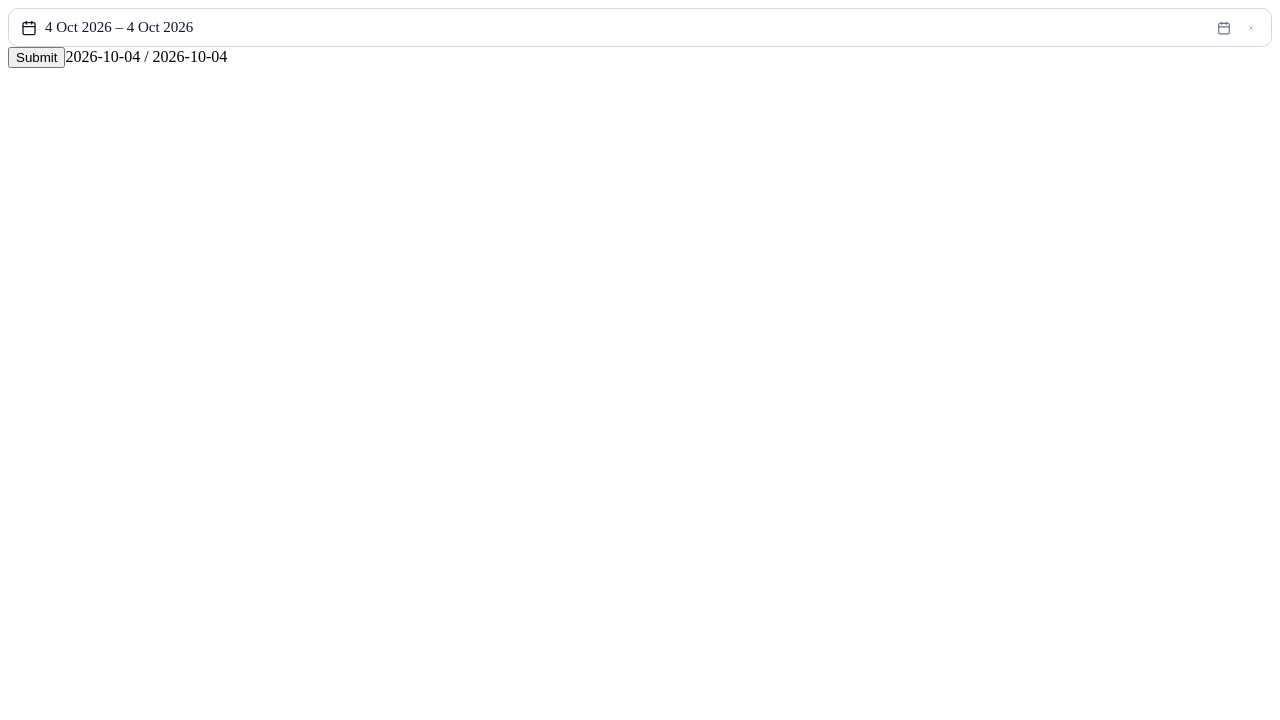
starting a range earlier than its first day replaces the start before extending
Click the button with aria-label "Dates": (119, 27) [8,8,1272,47]
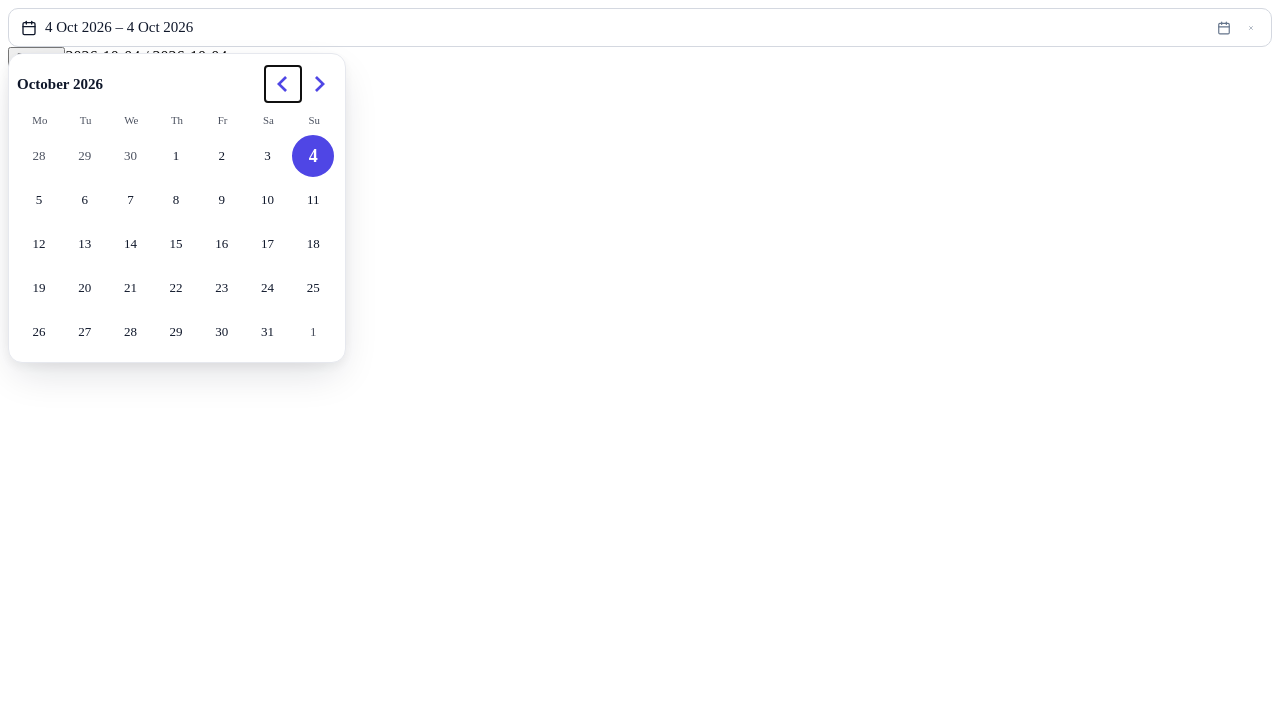
Click the button named "next month": (319, 84) [301,66,337,102]
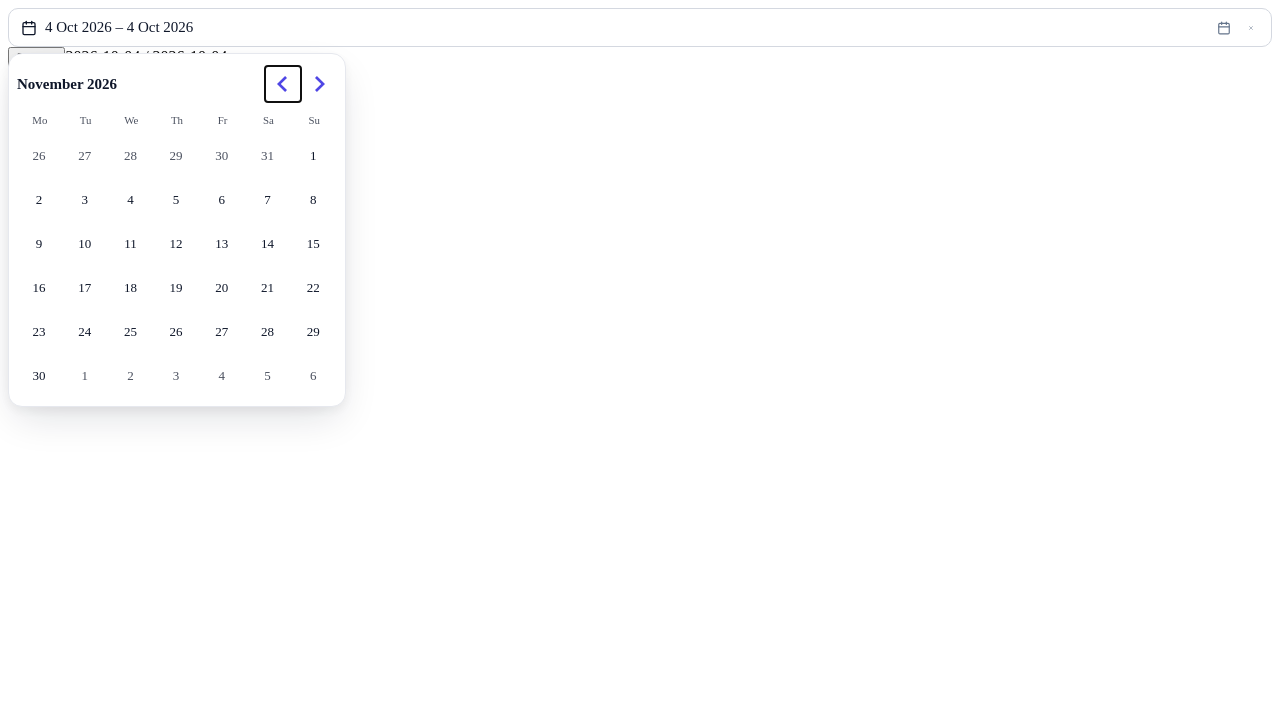
Click the button named "November 28th, 2026": (268, 332) [246,311,288,353]
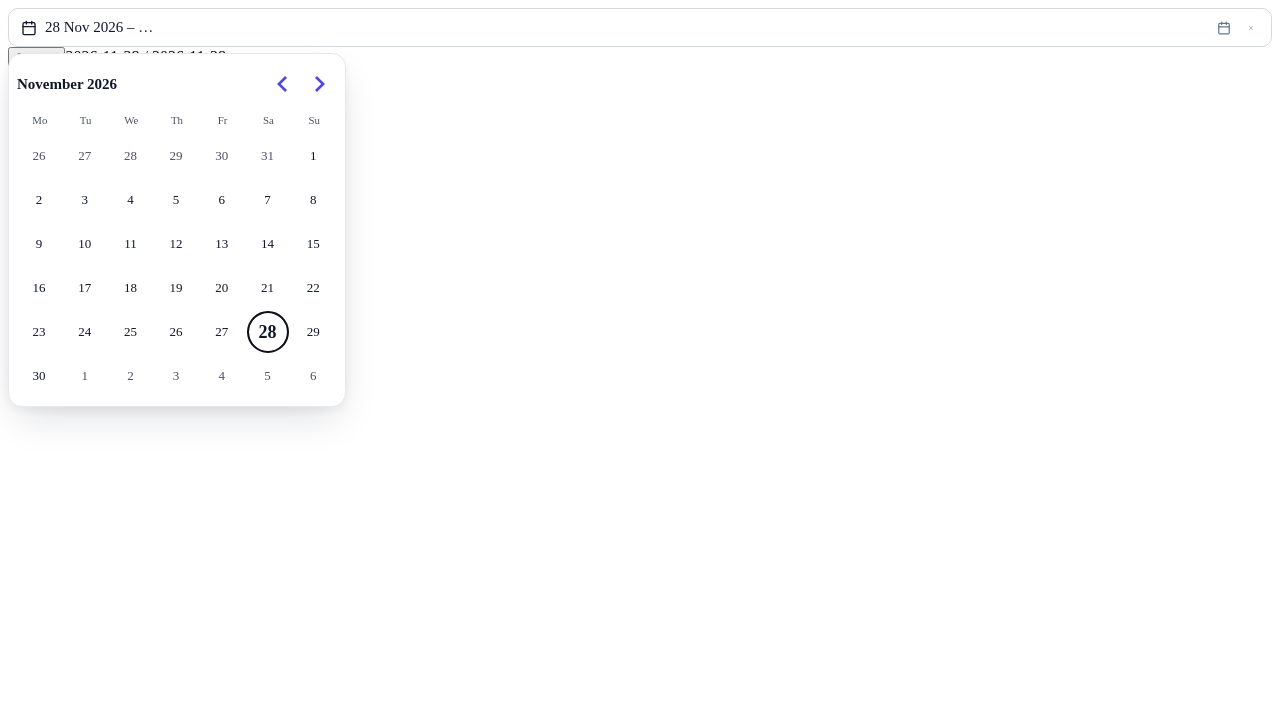
Click the button named "November 27th, 2026": (222, 332) [201,311,243,353]
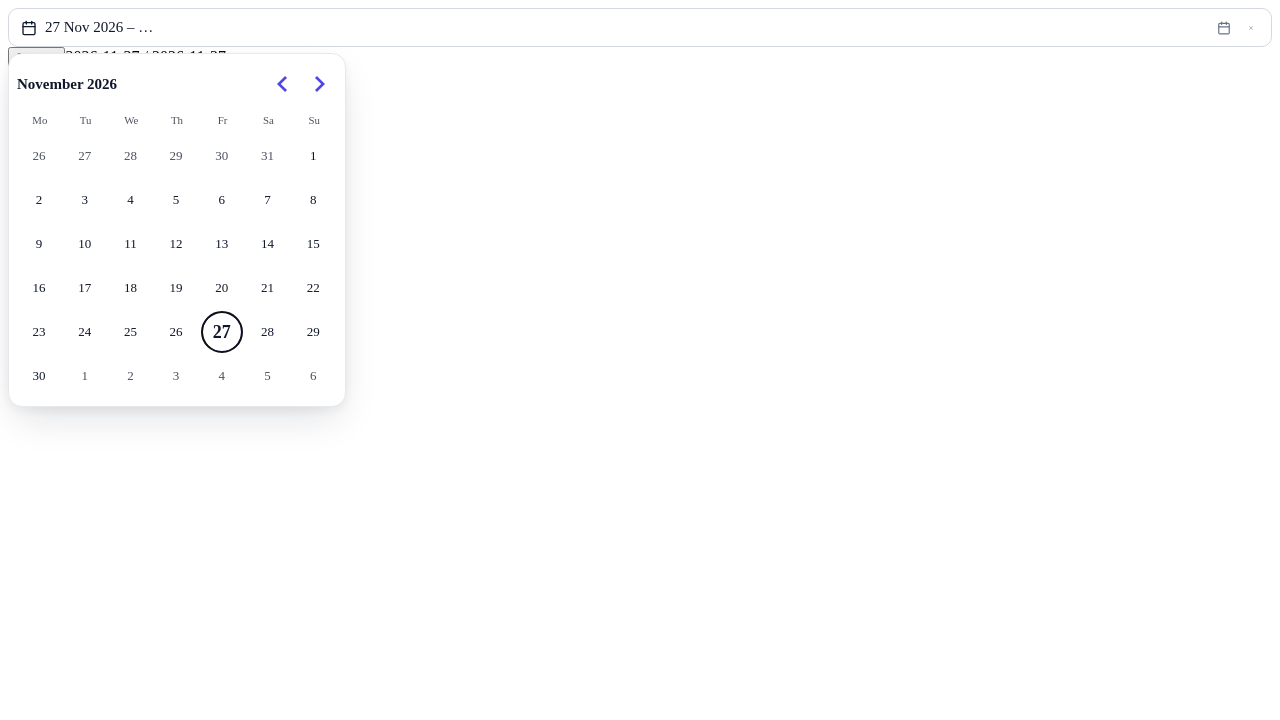
Check: the dialog named "Choose date" is shown, box [8,53,346,407]
Check: the text named "Saved dates" reads "2026-11-27 / 2026-11-27", box [66,48,226,65]
Click the button named "November 30th, 2026": (39, 376) [18,355,60,397]
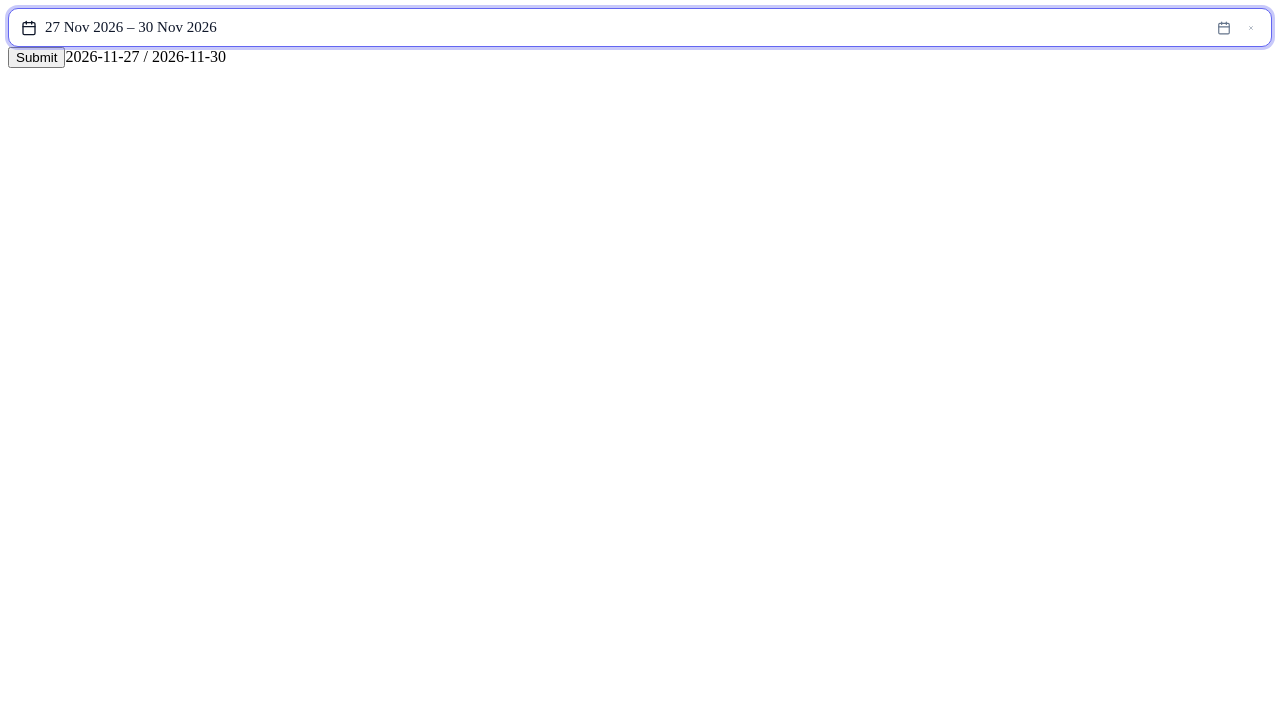
Check: the text named "Saved dates" reads "2026-11-27 / 2026-11-30", box [66,48,226,65]
Check: the dialog is gone
